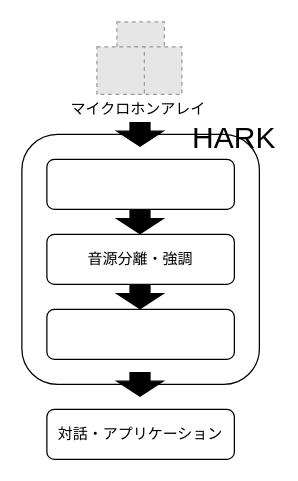
Some shapes in this 298 by 481 pixel diagram are drawn without their labels. Grey dashed boxes stand in for pictures. The box of each missing label's shape, as (x1, y1, x2, y2) in pixels:
音声認識: (46, 308, 234, 359)
音源定位・追跡: (46, 158, 234, 209)
